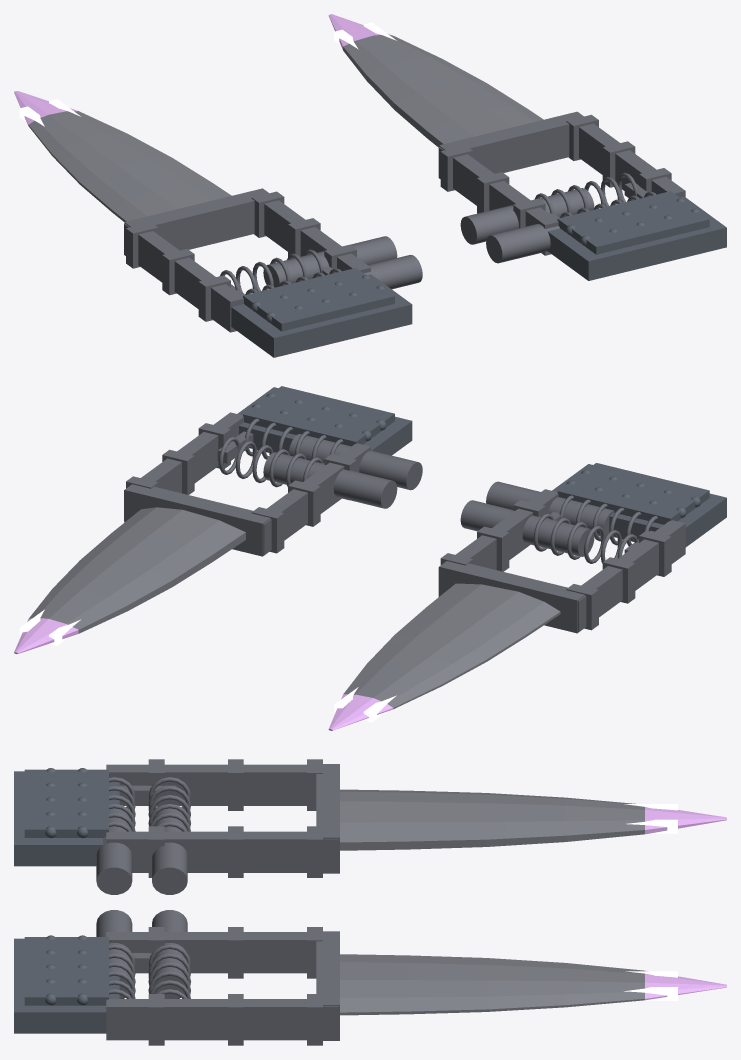
File: art_nightstalker_katar.fbx
3 renders of one model, top to bottom at view 1: azimuth 30°, elevation 25°; view 2: azimuth 150°, elevation 25°; view 3: azimuth 270°, elevation 25°, orthographic. The views are drawn at different scales.
Visible parts, largest first — view 1: CrossguardL, Crossguard, BladeL, Blade, PommelL, Pommel, Handle, HandleL, BladeEdgeL, BladeEdge; view 2: Blade, BladeL, CrossguardL, Crossguard, Handle, PommelL, Pommel, HandleL, BladeEdge, BladeEdgeL; view 3: Crossguard, CrossguardL, Blade, BladeL, Pommel, PommelL, HandleL, Handle, BladeEdgeL, BladeEdge, RuneInlay, RuneInlayL.
Boxes of the visible parts, box(x1,y1,x2,y2) form: CrossguardL: box(124, 188, 370, 332); Crossguard: box(438, 111, 685, 255); BladeL: box(28, 111, 231, 221); Blade: box(343, 35, 543, 147); PommelL: box(231, 268, 412, 357); Pommel: box(547, 191, 726, 280); Handle: box(460, 172, 655, 263); HandleL: box(220, 236, 422, 296); BladeEdgeL: box(14, 91, 77, 124); BladeEdge: box(328, 14, 392, 49); Blade: box(28, 507, 245, 633); BladeL: box(343, 583, 560, 709); CrossguardL: box(438, 489, 685, 633); Crossguard: box(124, 412, 370, 556); Handle: box(217, 418, 422, 508); PommelL: box(552, 463, 726, 547); Pommel: box(237, 386, 412, 455); HandleL: box(460, 481, 657, 563); BladeEdge: box(14, 618, 78, 653); BladeEdgeL: box(328, 694, 393, 730); Crossguard: box(106, 927, 339, 1045); CrossguardL: box(106, 759, 339, 877); Blade: box(340, 954, 644, 1015); BladeL: box(340, 789, 644, 850); Pommel: box(14, 935, 119, 1033); PommelL: box(14, 768, 119, 866); HandleL: box(96, 777, 190, 894); Handle: box(96, 910, 190, 998); BladeEdgeL: box(645, 807, 726, 834); BladeEdge: box(645, 970, 726, 1000); RuneInlay: box(624, 971, 677, 1000); RuneInlayL: box(624, 804, 677, 833).
Size of the model in its own units: 222 by 16.88 by 270.
